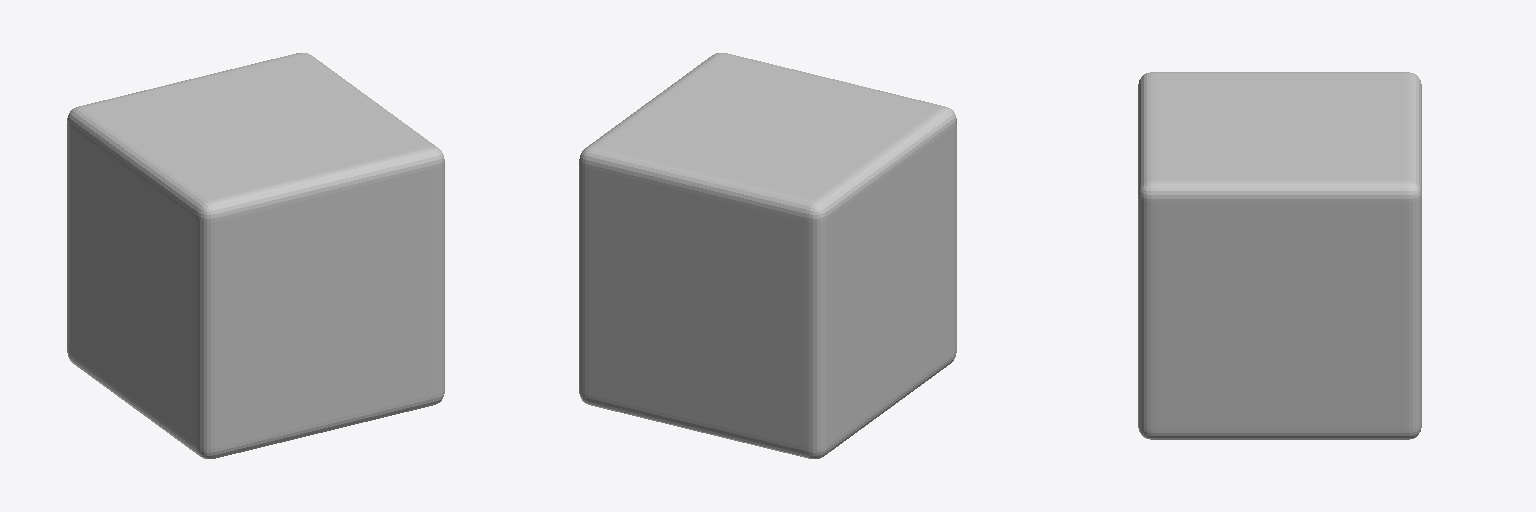
File: cube_rounded.obj
The picture shows the model from 3 angles: view 1: azimuth 30°, elevation 25°; view 2: azimuth 150°, elevation 25°; view 3: azimuth 270°, elevation 25°; orthographic projection.
Visible parts, largest first — view 1: Cube.001; view 2: Cube.001; view 3: Cube.001.
Boxes of the visible parts, x1=… form: Cube.001: x1=67, y1=53, x2=444, y2=458; Cube.001: x1=579, y1=53, x2=956, y2=458; Cube.001: x1=1138, y1=72, x2=1421, y2=439.
Size of the model in its own units: 2 by 2 by 2.